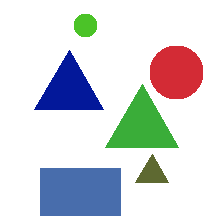circle: (150, 46, 202, 98), (74, 14, 96, 36)
rectangle: (40, 168, 120, 215)
triangle: (105, 84, 178, 147), (34, 50, 103, 109), (135, 154, 168, 182)
